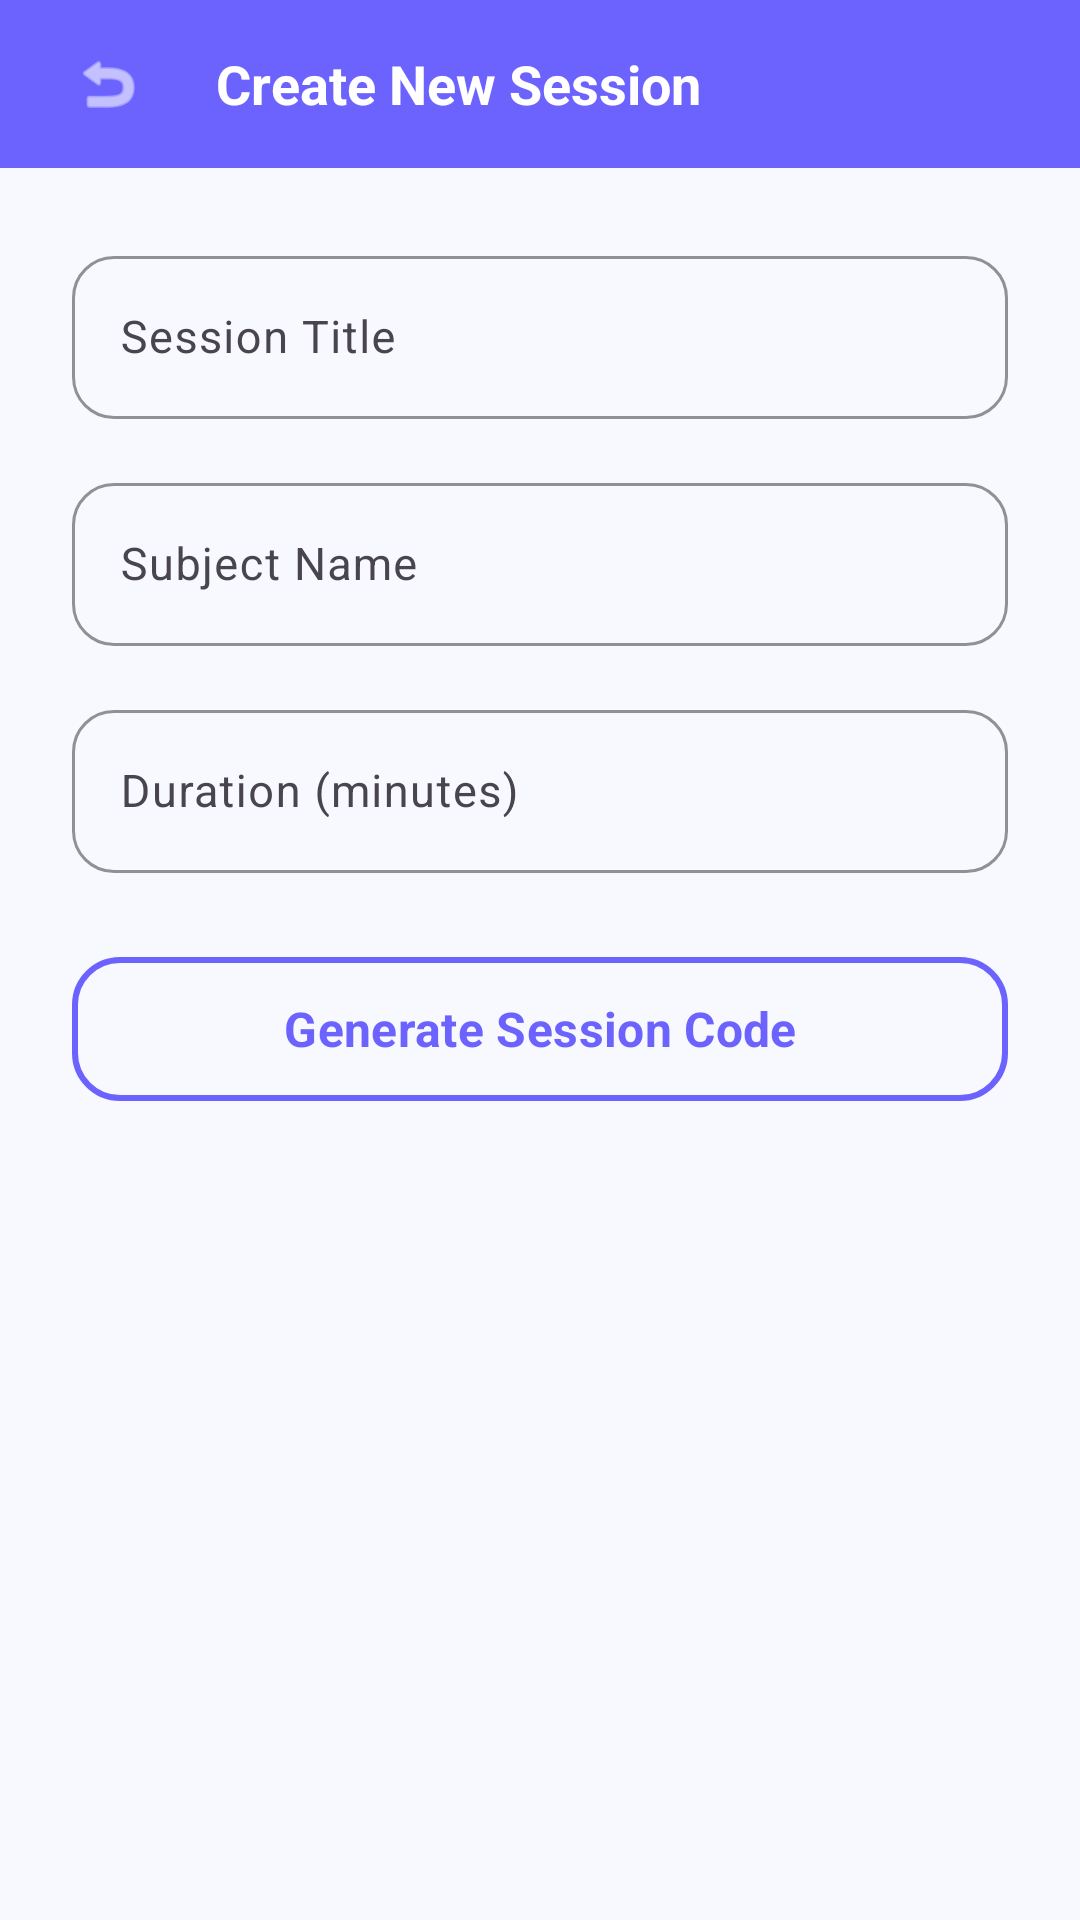

Screen size 1080x1920. Icon name, then its center in pixels as point (x, y):
Back: point (109, 84)
